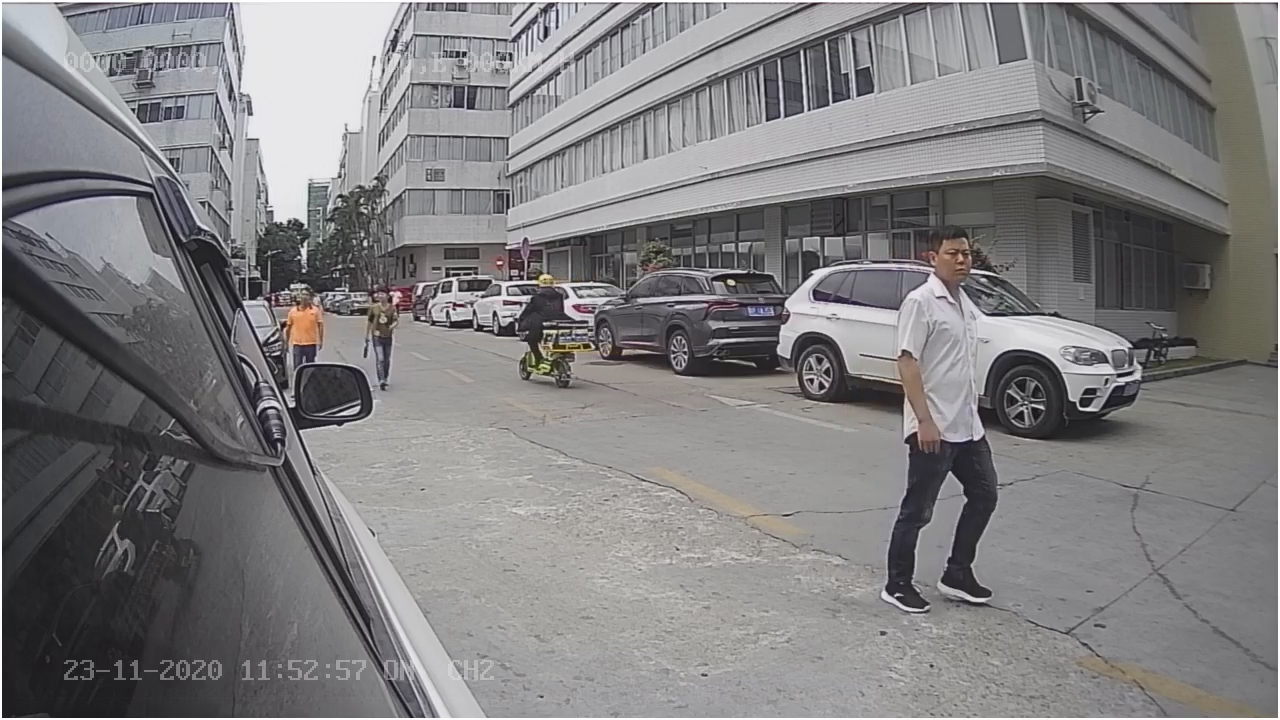person: (884, 221, 1009, 640)
